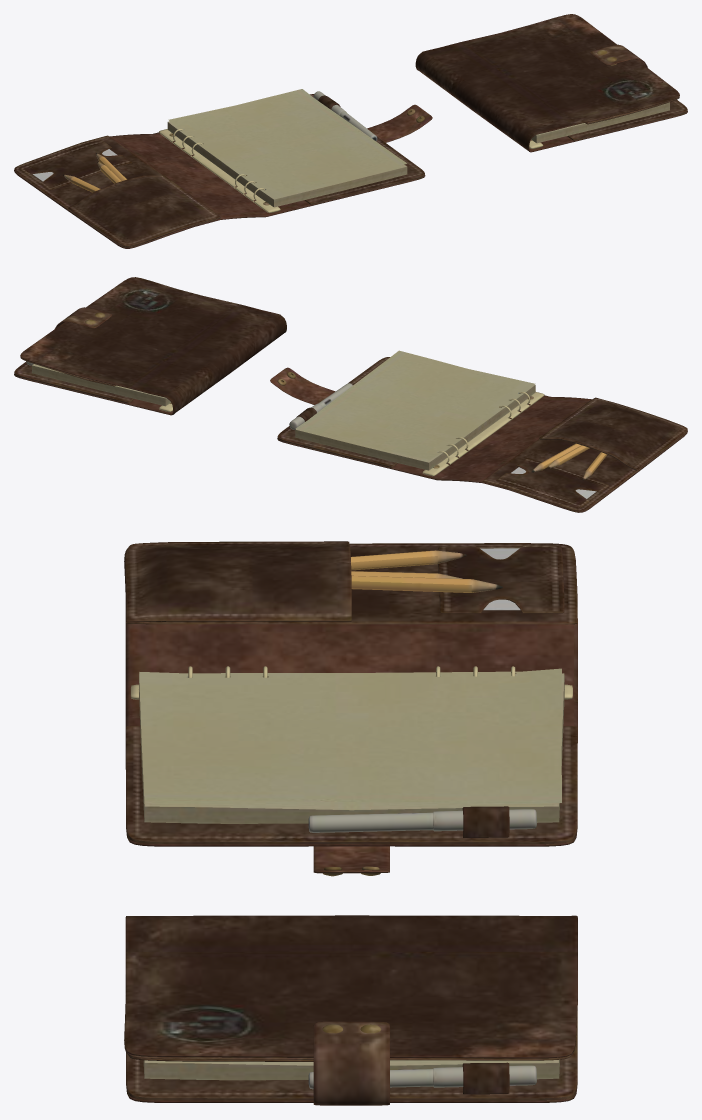
File: binder_notebook.glb
The picture shows the model from 3 angles, top to bottom: view 1: azimuth 30°, elevation 25°; view 2: azimuth 150°, elevation 25°; view 3: azimuth 270°, elevation 25°; orthographic projection. The views are drawn at different scales.
Visible parts, largest first — view 1: binder_notebook, binder_notebook_closed; view 2: binder_notebook, binder_notebook_closed; view 3: binder_notebook, binder_notebook_closed.
Part boxes in pixels (x1,y1,x2,y2): binder_notebook: (14, 89, 432, 248); binder_notebook_closed: (415, 14, 687, 152); binder_notebook: (270, 350, 687, 512); binder_notebook_closed: (14, 277, 286, 415); binder_notebook: (124, 541, 577, 876); binder_notebook_closed: (124, 915, 577, 1105).
Bounding box in the file's own units: 0.584 × 0.0253 × 0.2.
Materials: 1 (1 with a texture image).
